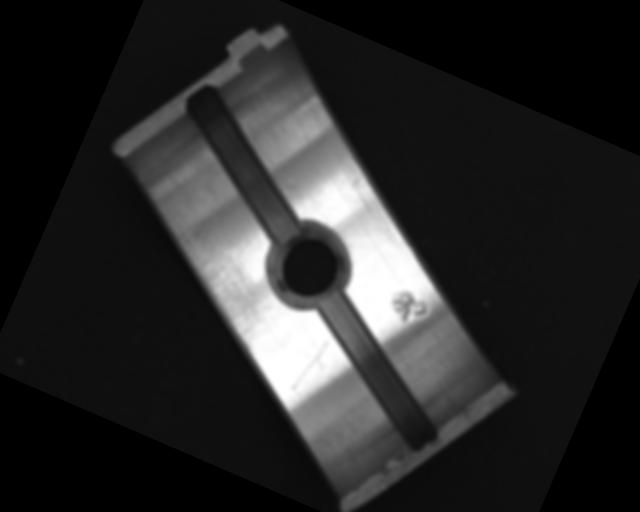bruise: (380, 285, 433, 335)
gap: (148, 79, 340, 250), (281, 288, 473, 455)
hole: (254, 207, 365, 320)
nick: (290, 332, 332, 396)
scratch: (140, 212, 296, 357)
